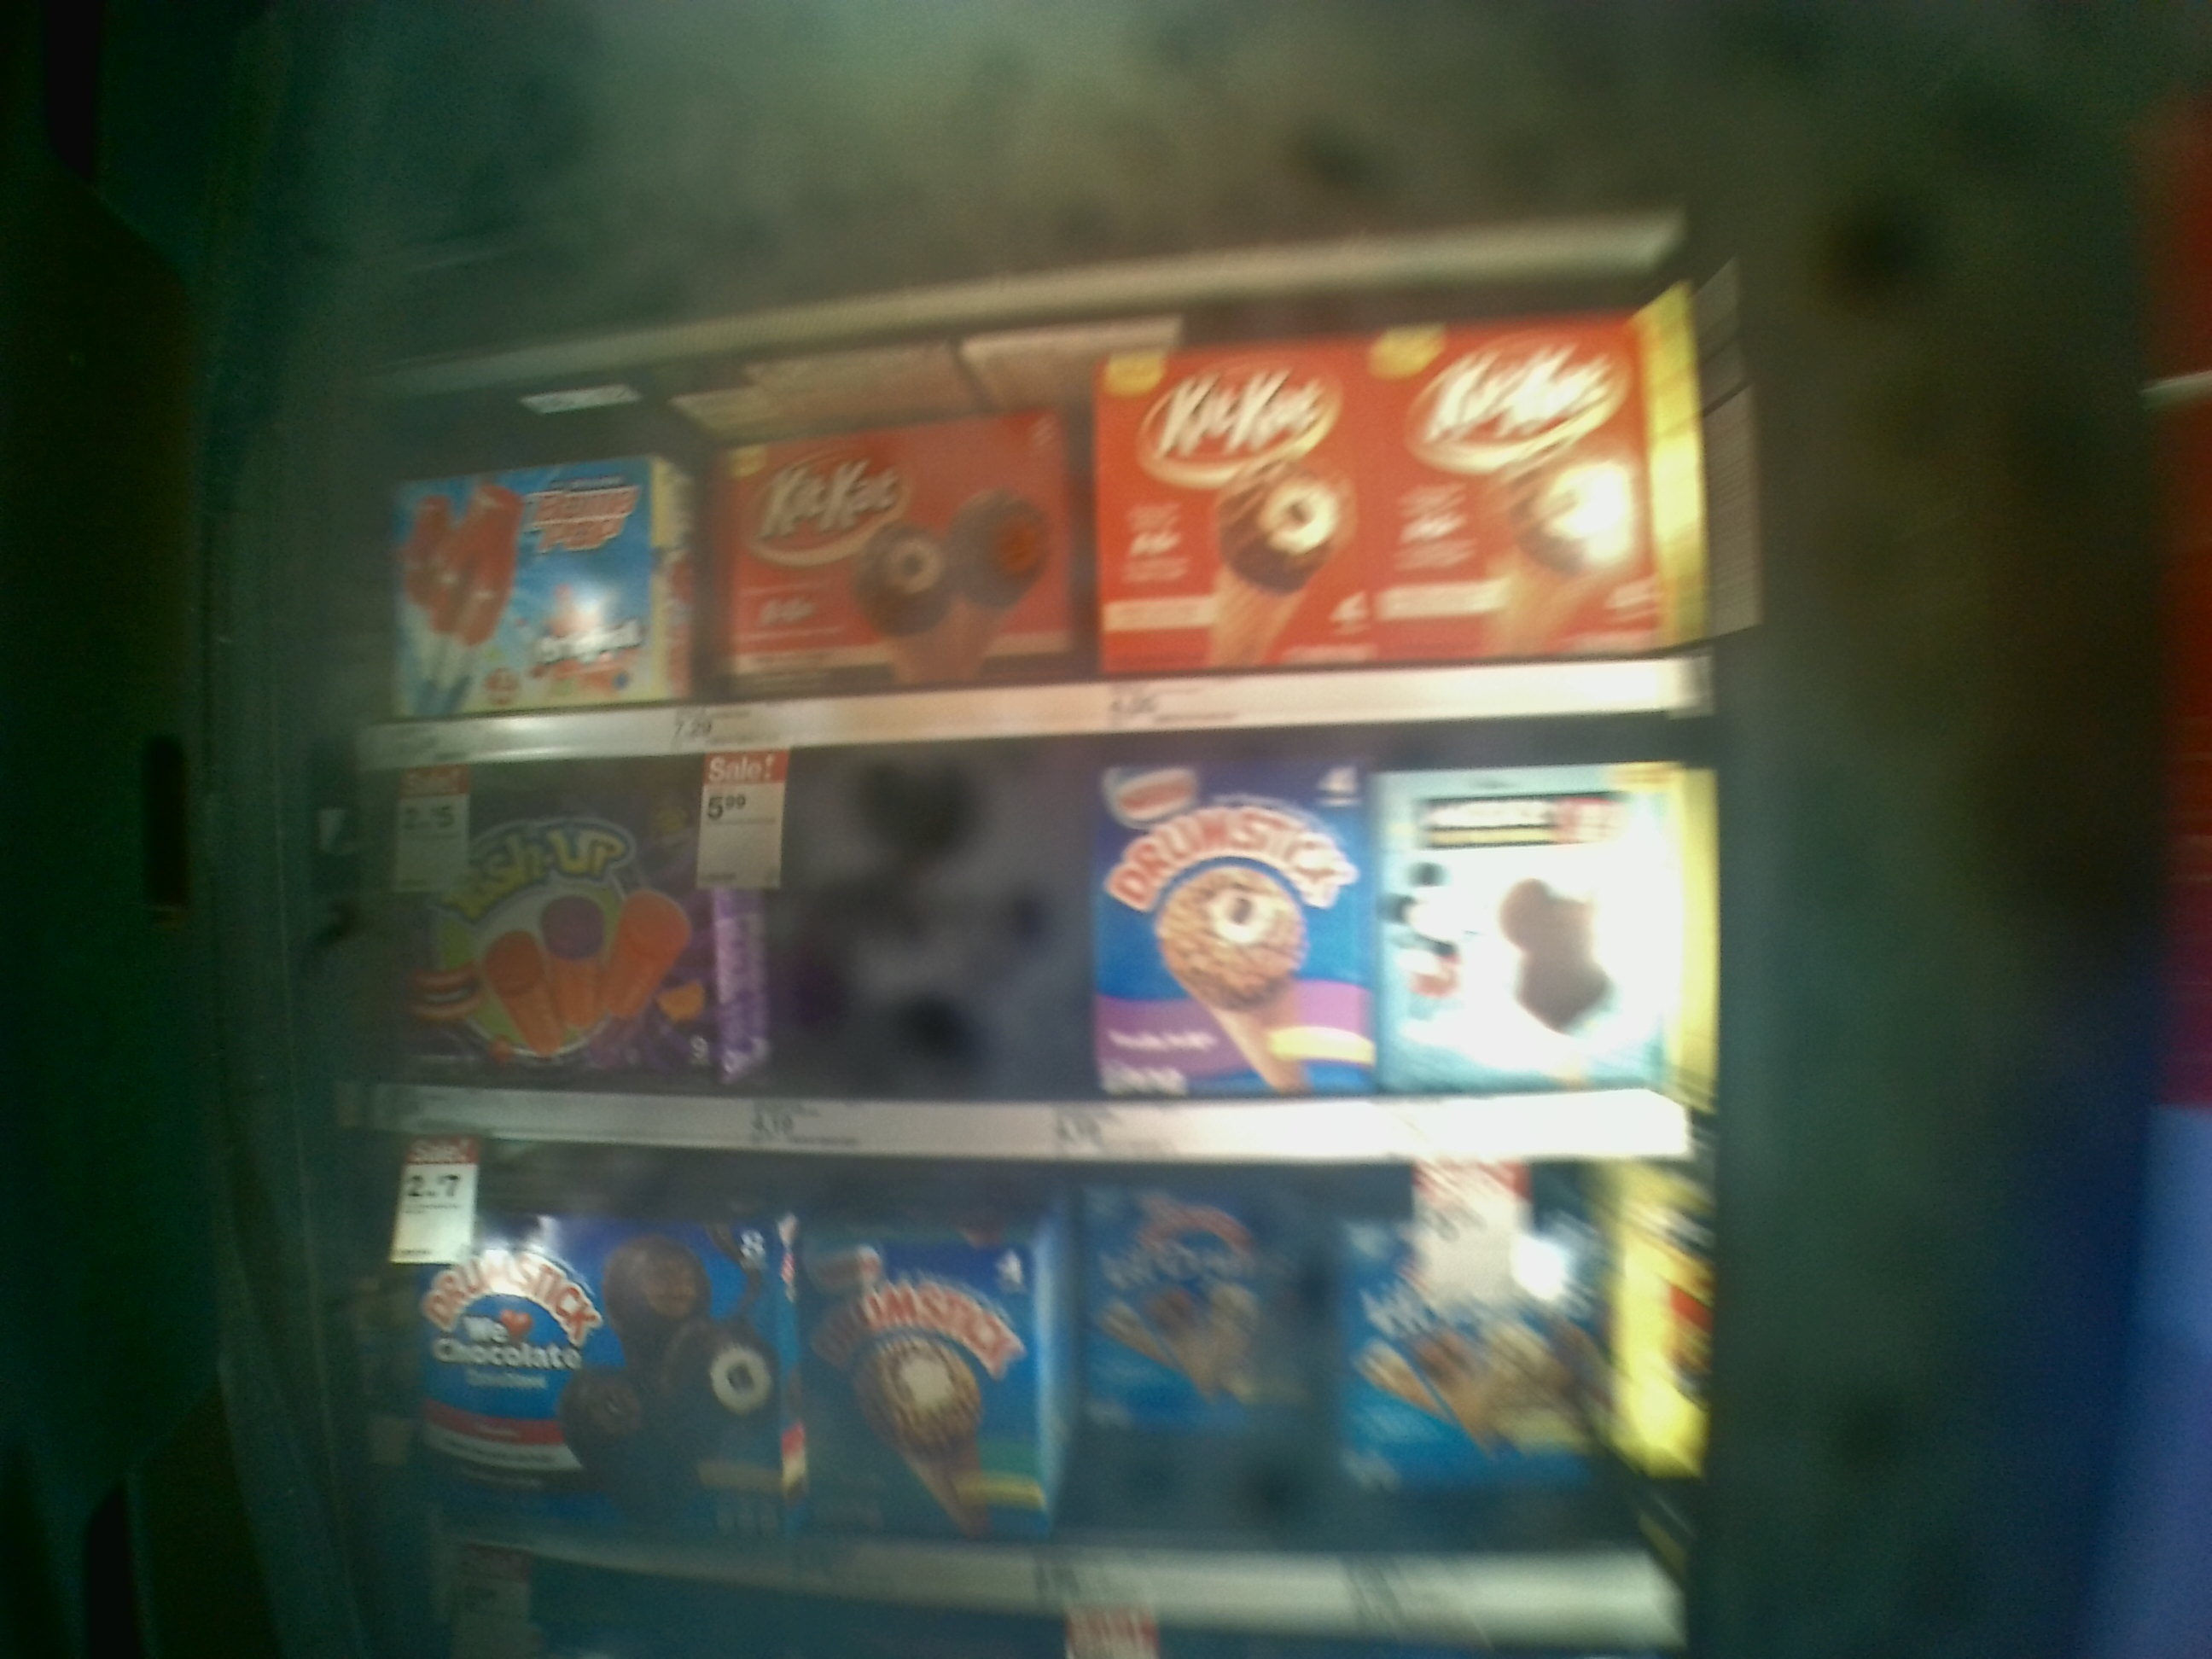shelf: (343, 272, 1712, 763), (348, 711, 1731, 1162)
